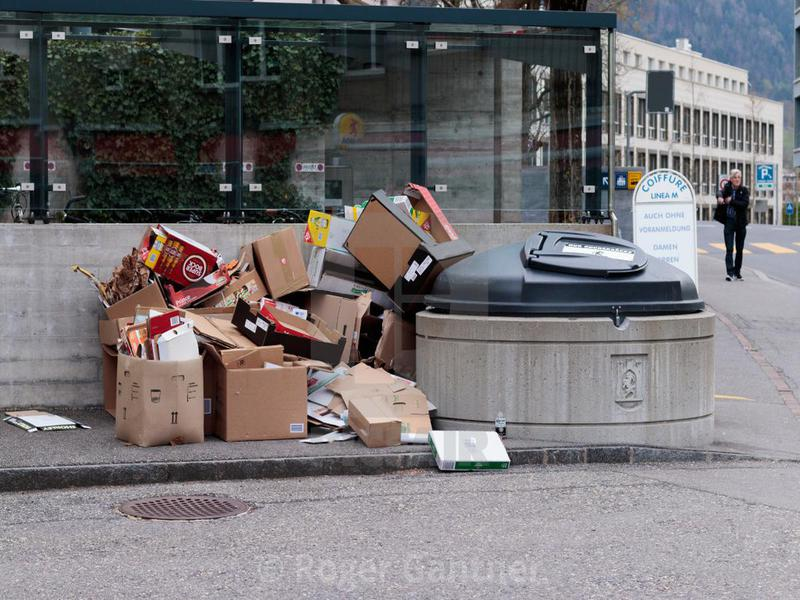cardboard: (103, 304, 222, 450), (312, 185, 473, 287), (207, 319, 311, 446), (276, 279, 406, 365), (306, 360, 438, 444), (104, 220, 225, 298), (227, 221, 311, 316), (427, 425, 515, 475)
